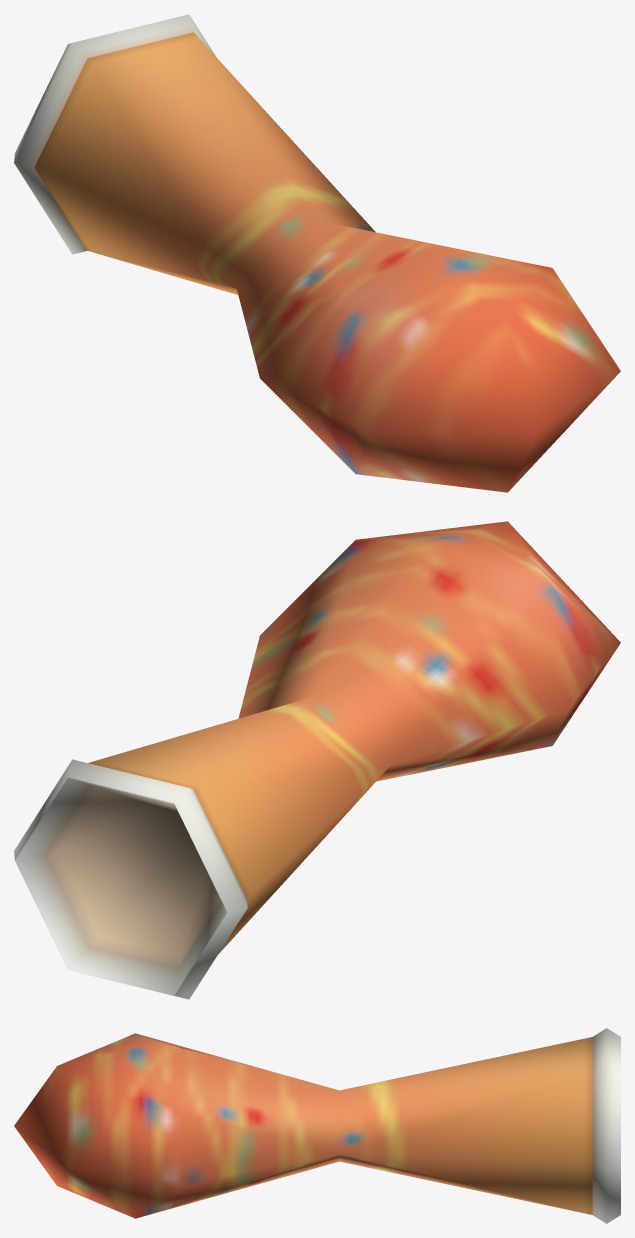
File: jsf_Balloon_01.fbx
3 renders of one model, top to bottom at view 1: azimuth 30°, elevation 25°; view 2: azimuth 150°, elevation 25°; view 3: azimuth 270°, elevation 25°, orthographic. The views are drawn at different scales.
Parts seen in each view (by area): view 1: jsf_Balloon_01; view 2: jsf_Balloon_01; view 3: jsf_Balloon_01.
Boxes of the visible parts, <box> form: jsf_Balloon_01: <box>14,14,620,492</box>; jsf_Balloon_01: <box>14,521,620,999</box>; jsf_Balloon_01: <box>14,1028,620,1223</box>.
Size of the model in its own units: 1.44 by 1.02 by 3.39.
